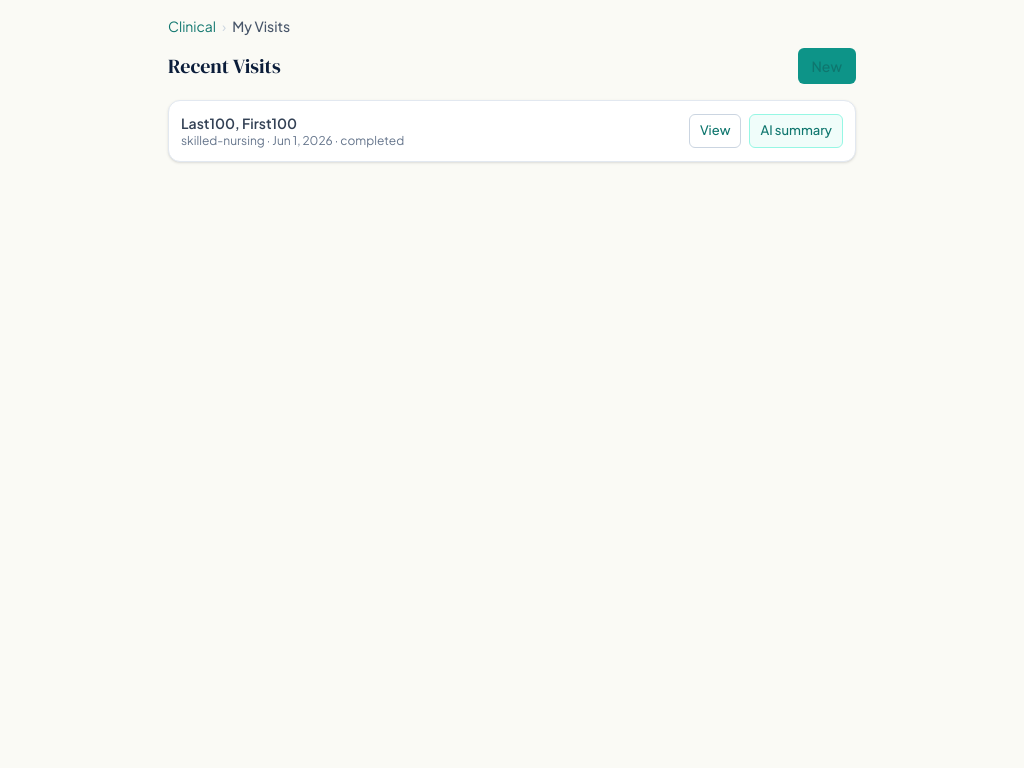
Scenario: ClinicianVisits › opens the summary modal when the AI summary button is clicked
Step 1. Click the button with test id "summarize-7" → (796, 131), box [749,114,843,148]
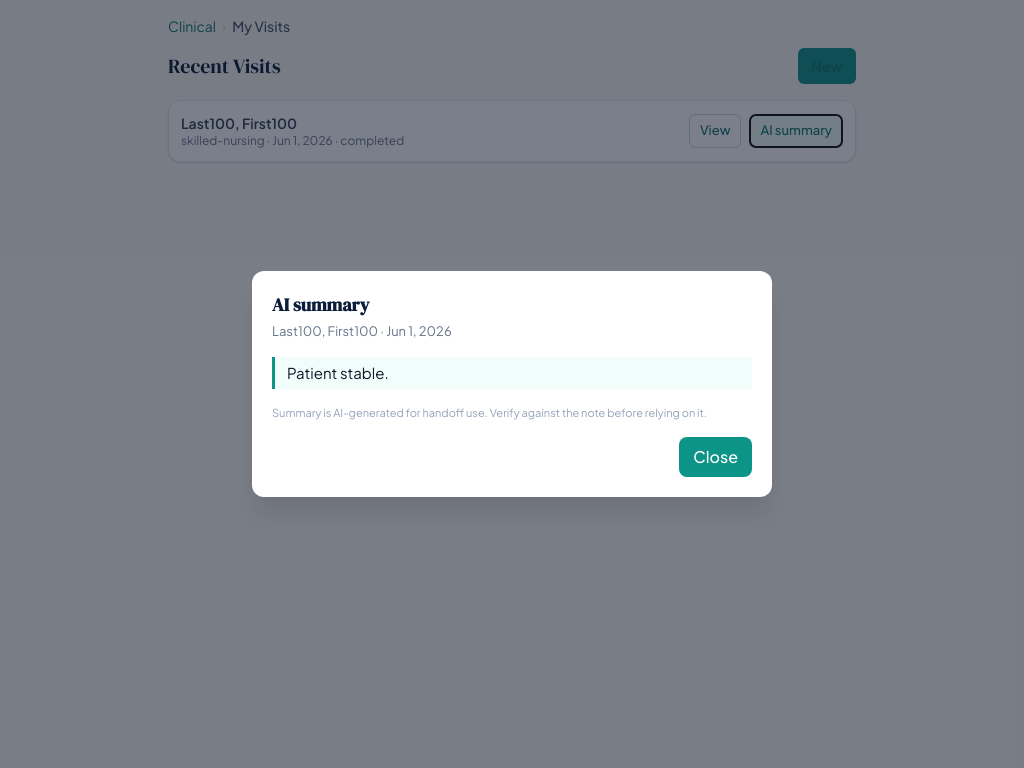
Expected: the text with test id "summary-text" shows "Patient stable", [287,363,389,382]
